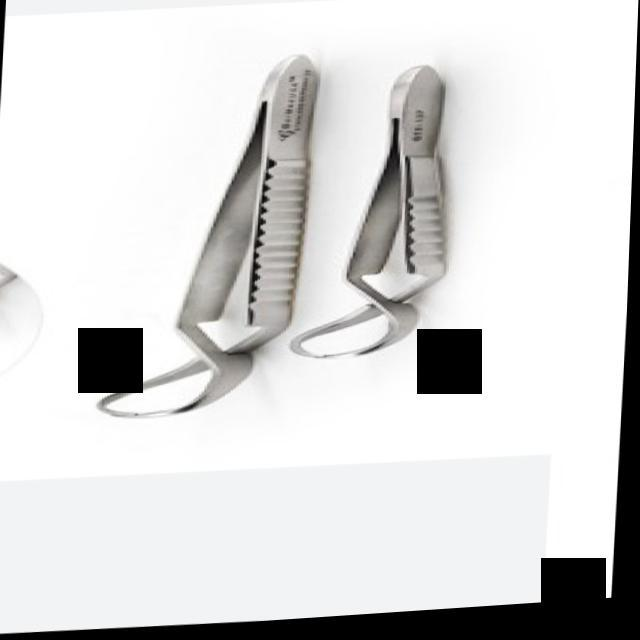Jones Towel Clamp: (85, 46, 334, 426), (288, 41, 464, 372)
